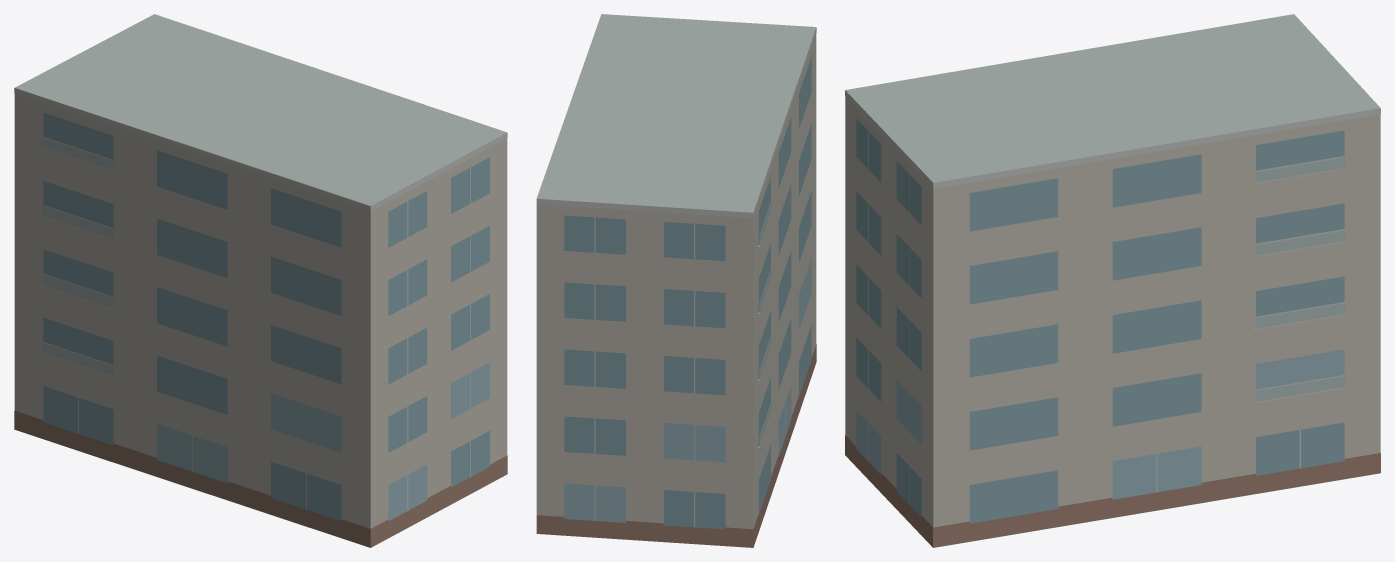
Rendered from survey-upis-32549011.glb.
3 renders of one model, left to right at view 1: azimuth 30°, elevation 25°; view 2: azimuth 150°, elevation 25°; view 3: azimuth 270°, elevation 25°, orthographic. The views are drawn at different scales.
Visible parts, largest first — view 1: survey-upis-32549011.tmp; view 2: survey-upis-32549011.tmp; view 3: survey-upis-32549011.tmp.
Part boxes in pixels (<box>): survey-upis-32549011.tmp: <box>14,14,507,547</box>; survey-upis-32549011.tmp: <box>536,14,816,547</box>; survey-upis-32549011.tmp: <box>845,14,1380,547</box>.
Bounding box in the file's own units: 14.49 × 14.6 × 19.43.
